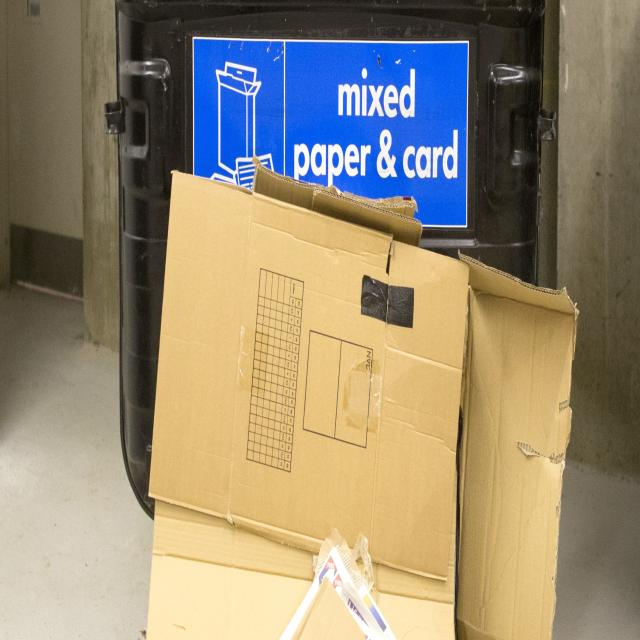cardboard: (143, 166, 575, 640)
